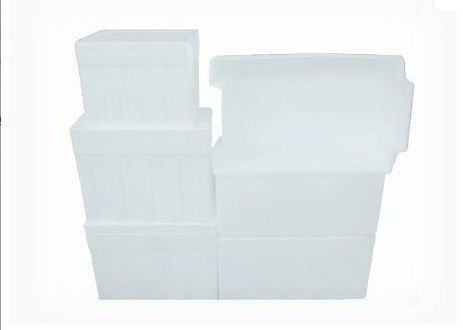Foam Box: (65, 22, 417, 304)
